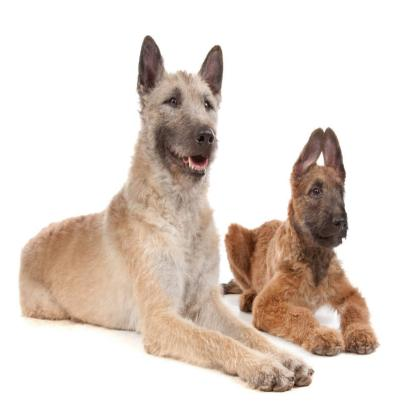Belgian Laekenois: (22, 36, 248, 378), (227, 126, 379, 357)
